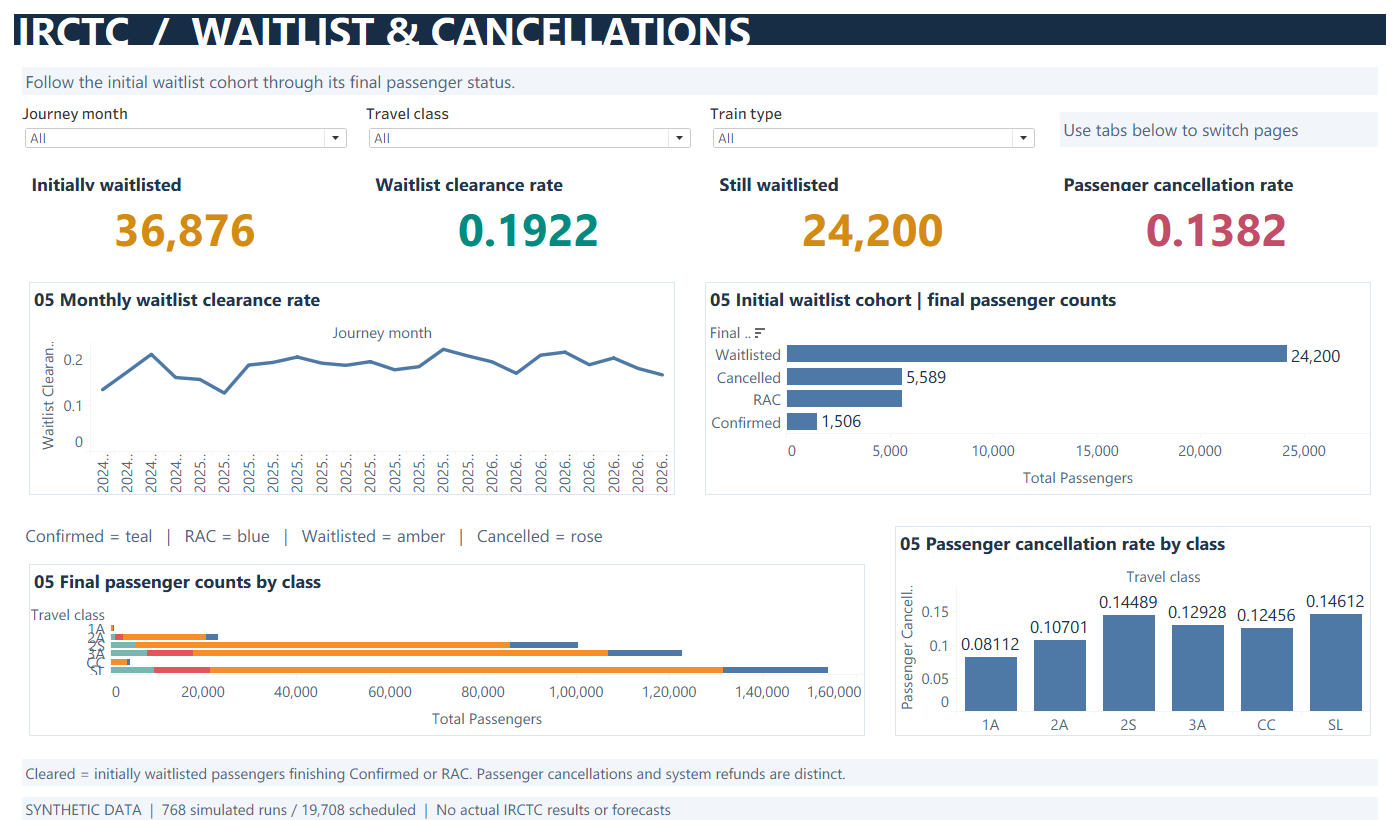

This screenshot's page, from the dashboard's own definition file:
{"tool":"tableau","page":{"name":"05 Waitlist and cancellations","canvas":[1400,820],"ordinal":4},"visuals":[{"type":"text","box":[0,0,1400,58]},{"type":"text","box":[22,66,1356,28]},{"type":"parameter","param":"[Parameters].[Journey month]","box":[22,102,328,53]},{"type":"parameter","param":"[Parameters].[Travel class]","box":[366,102,328,53]},{"type":"parameter","param":"[Parameters].[Train type]","box":[710,102,328,53]},{"type":"text","box":[1060,111,318,35]},{"type":"text","box":[22,168,327,27]},{"type":"text","box":[366,168,327,27]},{"type":"text","box":[710,168,327,27]},{"type":"text","box":[1054,168,327,27]},{"type":"worksheet","title":"05 KPI Initially waitlisted","mark":"Text","box":[22,195,327,61]},{"type":"worksheet","title":"05 KPI Waitlist clearance rate","mark":"Text","box":[366,195,327,61]},{"type":"worksheet","title":"05 KPI Still waitlisted","mark":"Text","box":[710,195,327,61]},{"type":"worksheet","title":"05 KPI Passenger cancellation rate","mark":"Text","box":[1054,195,327,61]},{"type":"worksheet","title":"05 Monthly waitlist clearance rate","mark":"Line","rows":["Waitlist Clearance Rate"],"cols":["Month"],"box":[22,272,660,225]},{"type":"worksheet","title":"05 Initial waitlist cohort | final passenger counts","mark":"Bar","rows":["FinalStatus"],"cols":["Total Passengers"],"box":[698,272,680,225]},{"type":"text","box":[22,513,850,33]},{"type":"worksheet","title":"05 Passenger cancellation rate by class","mark":"Bar","rows":["Passenger Cancellation Rate"],"cols":["TravelClass"],"box":[888,513,490,222]},{"type":"worksheet","title":"05 Final passenger counts by class","mark":"Bar","rows":["TravelClass"],"cols":["Total Passengers"],"box":[22,551,850,184]},{"type":"text","box":[22,751,1356,27]},{"type":"text","box":[22,788,1356,23]}]}

Visuals, with their boxes in screenshot pixels (x1, y1, x2, y2), scaled from the page's 1400x820 canvas onto the 1400x820 screenshot:
text: rect(0, 0, 1399, 58)
text: rect(22, 66, 1378, 94)
parameter: rect(22, 102, 350, 155)
parameter: rect(366, 102, 694, 155)
parameter: rect(710, 102, 1038, 155)
text: rect(1060, 111, 1378, 146)
text: rect(22, 168, 349, 195)
text: rect(366, 168, 693, 195)
text: rect(710, 168, 1037, 195)
text: rect(1054, 168, 1381, 195)
"05 KPI Initially waitlisted" worksheet (Text marks): rect(22, 195, 349, 256)
"05 KPI Waitlist clearance rate" worksheet (Text marks): rect(366, 195, 693, 256)
"05 KPI Still waitlisted" worksheet (Text marks): rect(710, 195, 1037, 256)
"05 KPI Passenger cancellation rate" worksheet (Text marks): rect(1054, 195, 1381, 256)
"05 Monthly waitlist clearance rate" worksheet (Line marks): rect(22, 272, 682, 497)
"05 Initial waitlist cohort | final passenger counts" worksheet (Bar marks): rect(698, 272, 1378, 497)
text: rect(22, 513, 872, 546)
"05 Passenger cancellation rate by class" worksheet (Bar marks): rect(888, 513, 1378, 735)
"05 Final passenger counts by class" worksheet (Bar marks): rect(22, 551, 872, 735)
text: rect(22, 751, 1378, 778)
text: rect(22, 788, 1378, 811)
